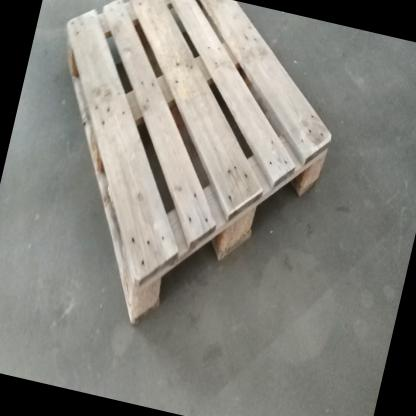BoxFace: (62, 0, 336, 337)
